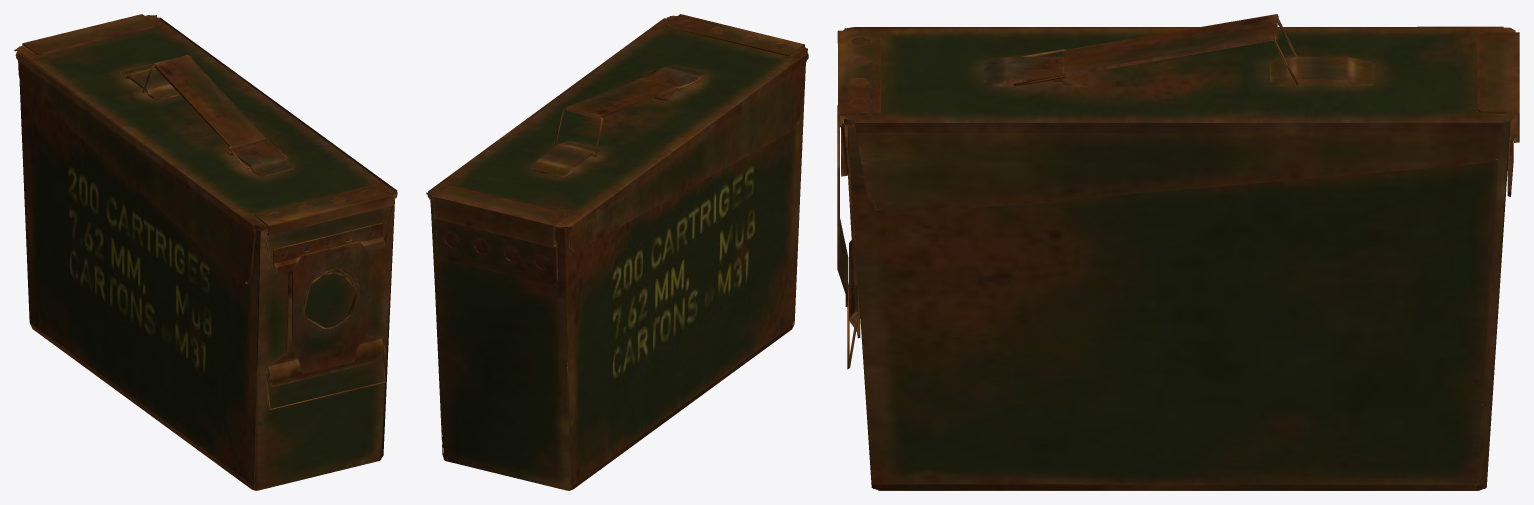
Rendered from ammo_box.glb.
The picture shows the model from 3 angles, left to right: view 1: azimuth 30°, elevation 25°; view 2: azimuth 150°, elevation 25°; view 3: azimuth 270°, elevation 25°; orthographic projection. The views are drawn at different scales.
Parts seen in each view (by area): view 1: CC0_ammo_box; view 2: CC0_ammo_box; view 3: CC0_ammo_box.
Part boxes in pixels (x1=…): CC0_ammo_box: x1=14, y1=14, x2=397, y2=490; CC0_ammo_box: x1=426, y1=14, x2=808, y2=490; CC0_ammo_box: x1=837, y1=14, x2=1519, y2=490.
Bounding box in the file's own units: 0.1211 × 0.2484 × 0.3608.
Materials: 1 (1 with a texture image).
